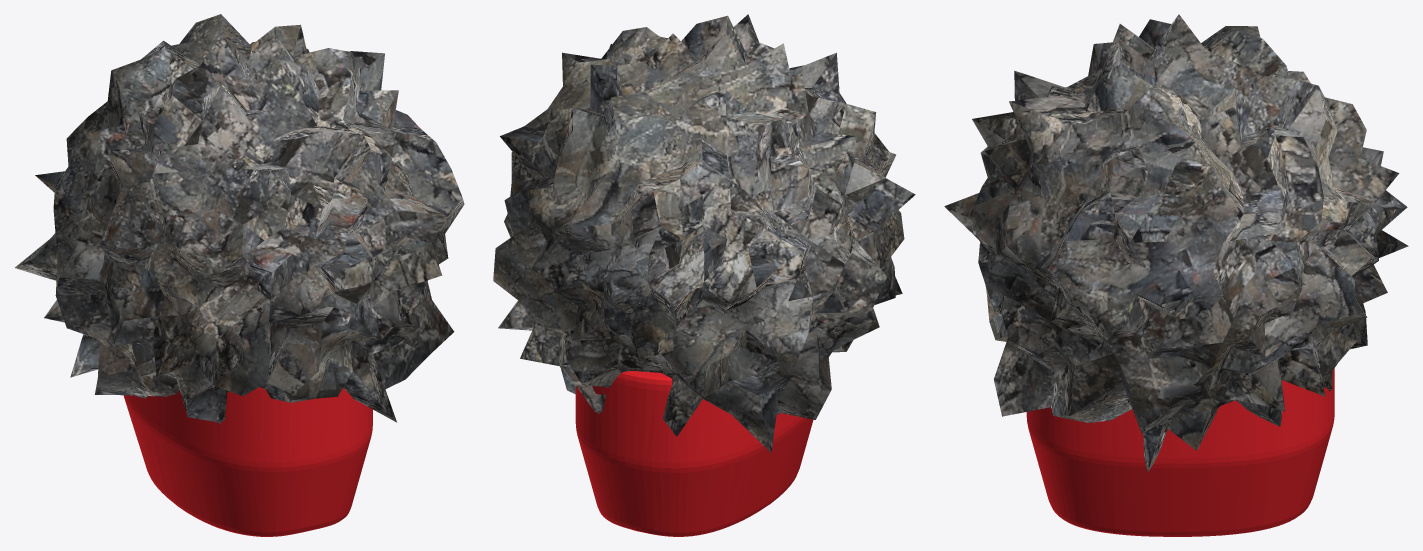
Rendered from astn0.fbx.
3 renders of one model, left to right at view 1: azimuth 30°, elevation 25°; view 2: azimuth 150°, elevation 25°; view 3: azimuth 270°, elevation 25°, orthographic. The views are drawn at different scales.
Visible parts, largest first — view 1: Spectacular Hillar (1), node_id30; view 2: Spectacular Hillar (1), node_id30; view 3: Spectacular Hillar (1), node_id30.
Part boxes in pixels (x1,y1,x2,y2): Spectacular Hillar (1): (15,14,464,423); node_id30: (123,387,372,536); Spectacular Hillar (1): (493,14,915,452); node_id30: (575,371,813,536); Spectacular Hillar (1): (944,14,1408,472); node_id30: (1026,368,1334,536).
Size of the model in its own units: 58.57 by 68.39 by 60.66.
2 materials, 2 textured.
